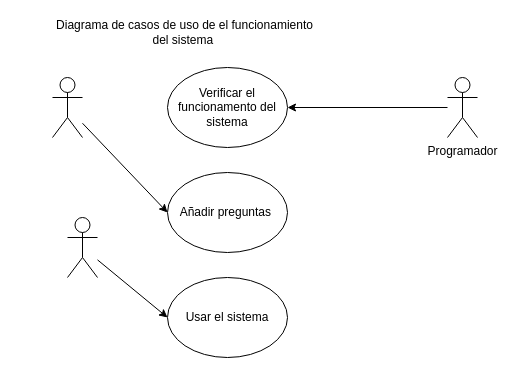
Image size: 515x375. Some labels were removed from this diagram. Each missing label, with the centre of its shape:
Diseñador de retos: the point at 67,107
Usuario: the point at 82,247
